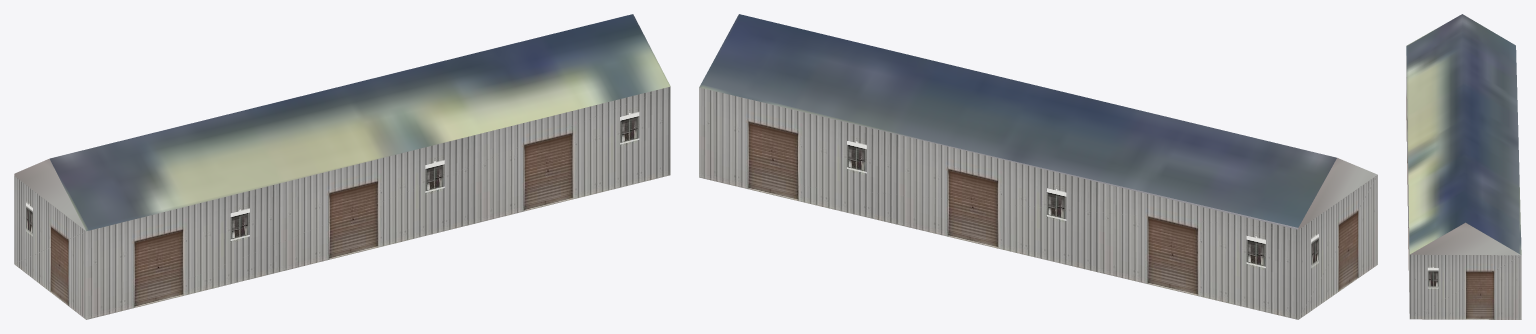
The model's file is E_1SGG64PLH4.dae.
3 renders of one model, left to right at view 1: azimuth 30°, elevation 25°; view 2: azimuth 150°, elevation 25°; view 3: azimuth 270°, elevation 25°, orthographic. The views are drawn at different scales.
Parts seen in each view (by area): view 1: SketchUp (×3); view 2: SketchUp (×4); view 3: SketchUp (×3).
Boxes of the visible parts, x1,y1,x2,y2 form: SketchUp (×3): (14, 14, 670, 319); SketchUp (×4): (699, 14, 1377, 319); SketchUp (×3): (1406, 14, 1521, 319).
Size of what is drawn, in the model's own units: 903 by 210 by 195.
Materials: 5 (4 with a texture image).
